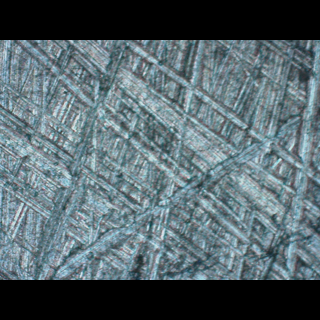d: (105, 65, 313, 271)
